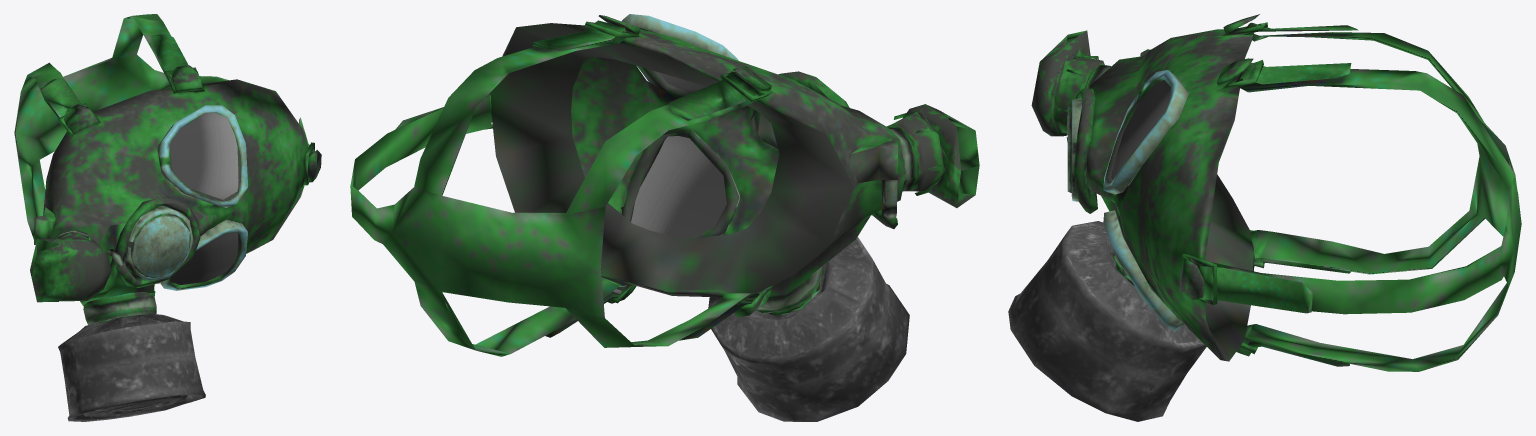
Rendered from M_GasMaskPMK1.fbx.
3 renders of one model, left to right at view 1: azimuth 30°, elevation 25°; view 2: azimuth 150°, elevation 25°; view 3: azimuth 270°, elevation 25°, orthographic. The views are drawn at different scales.
Parts seen in each view (by area): view 1: PMK-1 Gas Mask; view 2: PMK-1 Gas Mask; view 3: PMK-1 Gas Mask.
Boxes of the visible parts, x1=… form: PMK-1 Gas Mask: x1=14, y1=14, x2=321, y2=421; PMK-1 Gas Mask: x1=350, y1=14, x2=979, y2=421; PMK-1 Gas Mask: x1=1008, y1=14, x2=1521, y2=421.
Size of the model in its own units: 0.1995 by 0.1637 by 0.1852.
